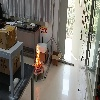fire: (34, 44, 41, 69)
